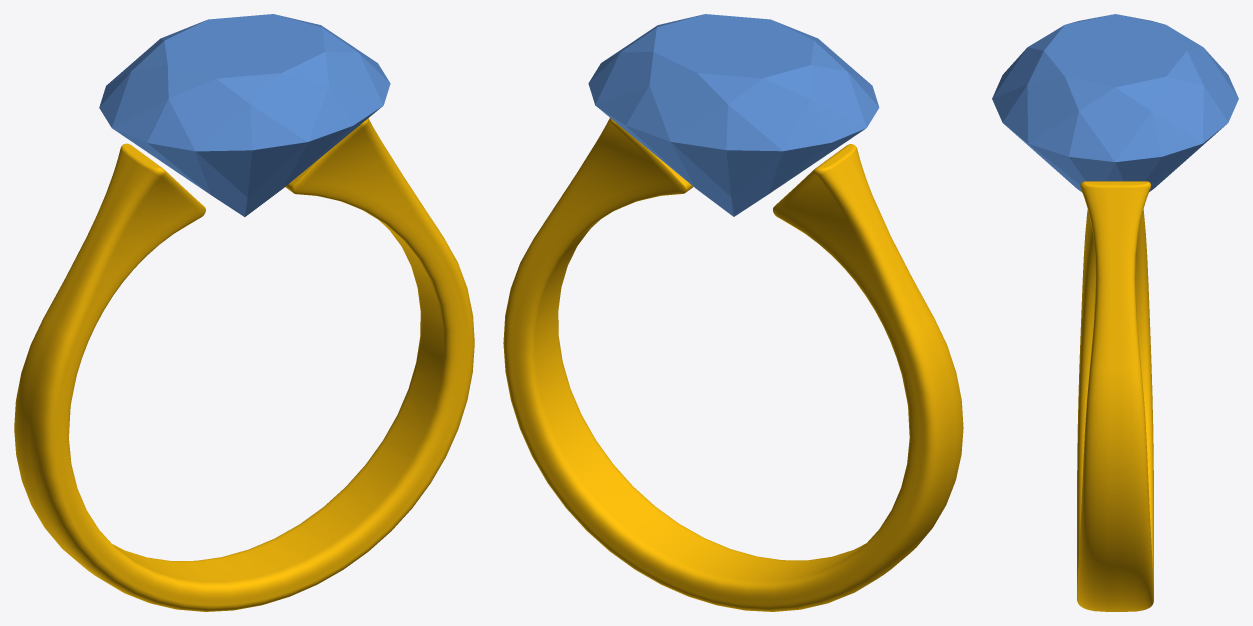
Rendered from Ring.fbx.
The picture shows the model from 3 angles, left to right: view 1: azimuth 30°, elevation 25°; view 2: azimuth 150°, elevation 25°; view 3: azimuth 270°, elevation 25°; orthographic projection. The views are drawn at different scales.
Visible parts, largest first — view 1: TheRing; view 2: TheRing; view 3: TheRing.
Boxes of the visible parts, box(x1,y1,x2,y2) form: TheRing: box(14, 14, 474, 611); TheRing: box(503, 14, 963, 611); TheRing: box(992, 14, 1238, 611).
Bounding box in the file's own units: 50 × 60 × 25.
